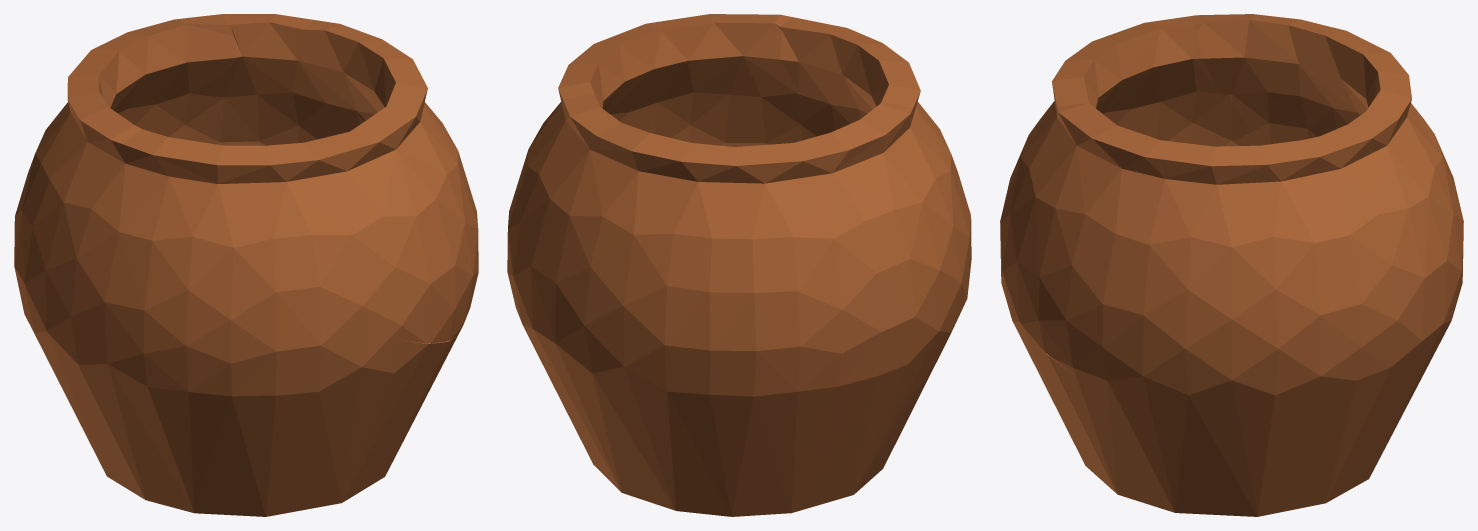
Rendered from Pottery 2_1b.fbx.
3 renders of one model, left to right at view 1: azimuth 30°, elevation 25°; view 2: azimuth 150°, elevation 25°; view 3: azimuth 270°, elevation 25°, orthographic.
Parts seen in each view (by area): view 1: Pottery 2_1b.002, Pottery 2_1b.003, Pottery 2_1b.001, Pottery 2_1b.006, Pottery 2_1b.004, Pottery 2_1b, Pottery 2_1b.005; view 2: Pottery 2_1b.001, Pottery 2_1b.003, Pottery 2_1b, Pottery 2_1b.004, Pottery 2_1b.002, Pottery 2_1b.005; view 3: Pottery 2_1b.003, Pottery 2_1b.004, Pottery 2_1b.001, Pottery 2_1b, Pottery 2_1b.002, Pottery 2_1b.006.
Boxes of the visible parts, left/top/right/bottom form: Pottery 2_1b.002: left=39, top=129, right=384, bottom=442; Pottery 2_1b.003: left=298, top=20, right=478, bottom=343; Pottery 2_1b.001: left=14, top=14, right=234, bottom=304; Pottery 2_1b.006: left=178, top=333, right=457, bottom=486; Pottery 2_1b.004: left=172, top=14, right=363, bottom=145; Pottery 2_1b: left=90, top=442, right=394, bottom=516; Pottery 2_1b.005: left=22, top=247, right=177, bottom=463; Pottery 2_1b.001: left=594, top=101, right=926, bottom=465; Pottery 2_1b.003: left=526, top=14, right=814, bottom=156; Pottery 2_1b: left=543, top=366, right=901, bottom=516; Pottery 2_1b.004: left=507, top=94, right=621, bottom=397; Pottery 2_1b.002: left=779, top=17, right=971, bottom=315; Pottery 2_1b.005: left=809, top=264, right=959, bottom=469; Pottery 2_1b.003: left=1001, top=103, right=1346, bottom=441; Pottery 2_1b.004: left=1257, top=111, right=1462, bottom=412; Pottery 2_1b.001: left=1183, top=14, right=1463, bottom=287; Pottery 2_1b: left=1067, top=342, right=1440, bottom=516; Pottery 2_1b.002: left=1000, top=17, right=1251, bottom=258; Pottery 2_1b.006: left=1001, top=259, right=1254, bottom=483.
Size of the model in its own units: 72 by 63.8 by 72.
